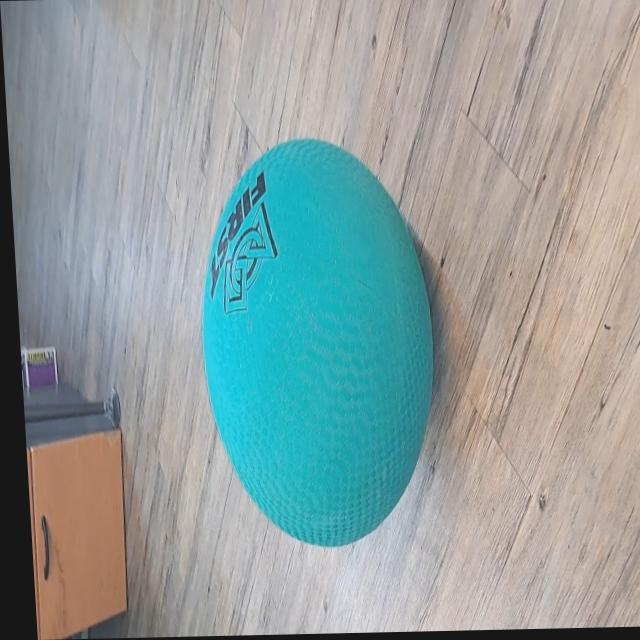ALGAE: (189, 134, 447, 552)
